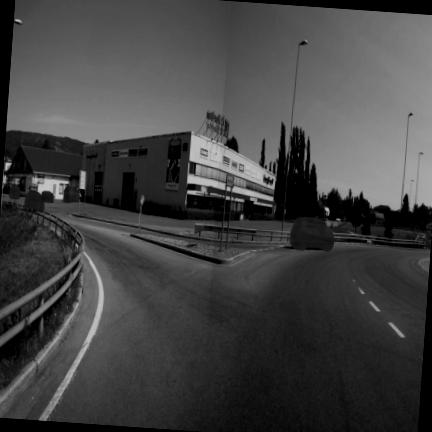Road: (50, 217, 429, 431)
